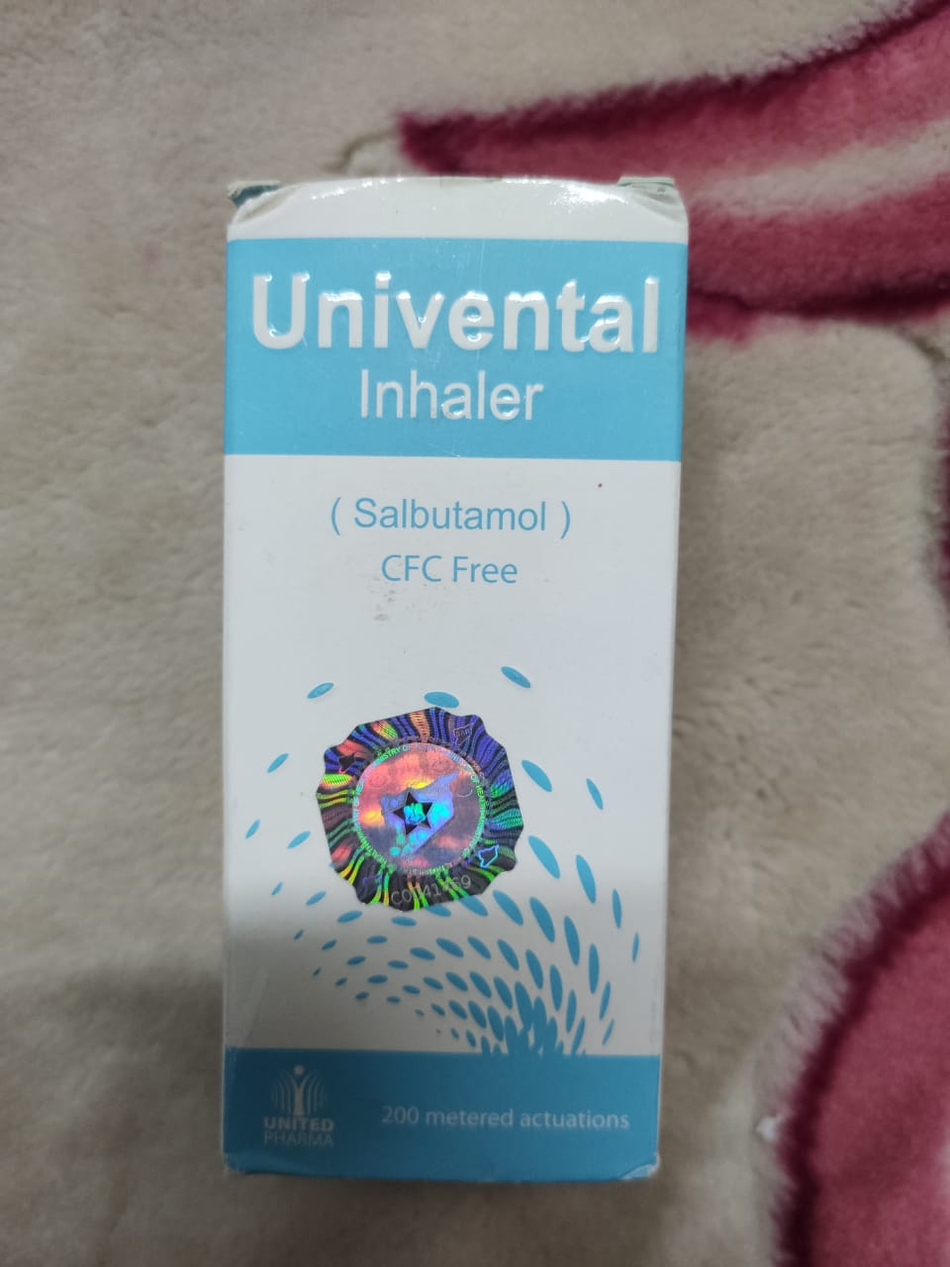Medicine: (198, 155, 680, 1211)
